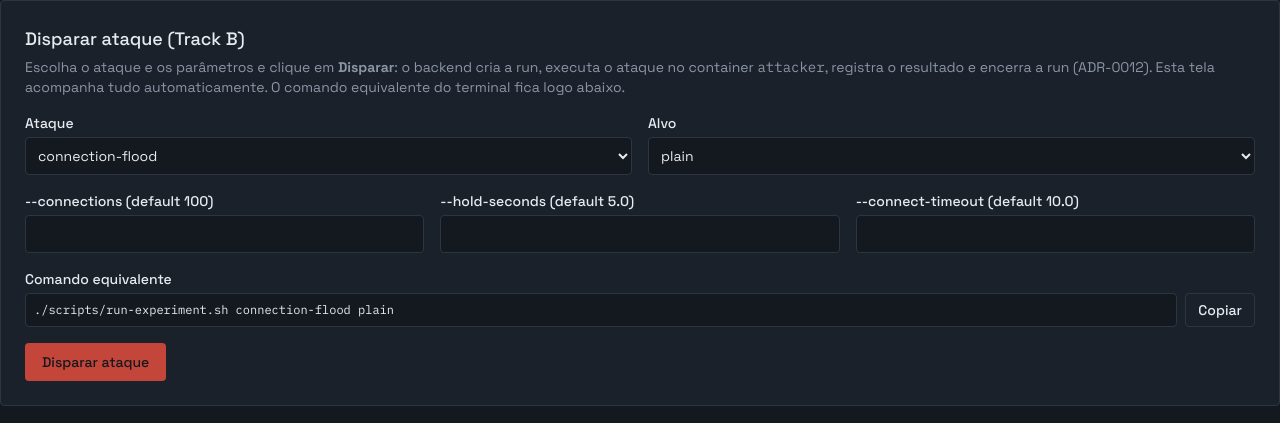
Test: AttackForm › always includes --mode for malformed-payload, since the script requires it
Select "malformed-payload" in the dropdown labelled "Ataque" at coordinates (328, 156), box [25,137,632,175]
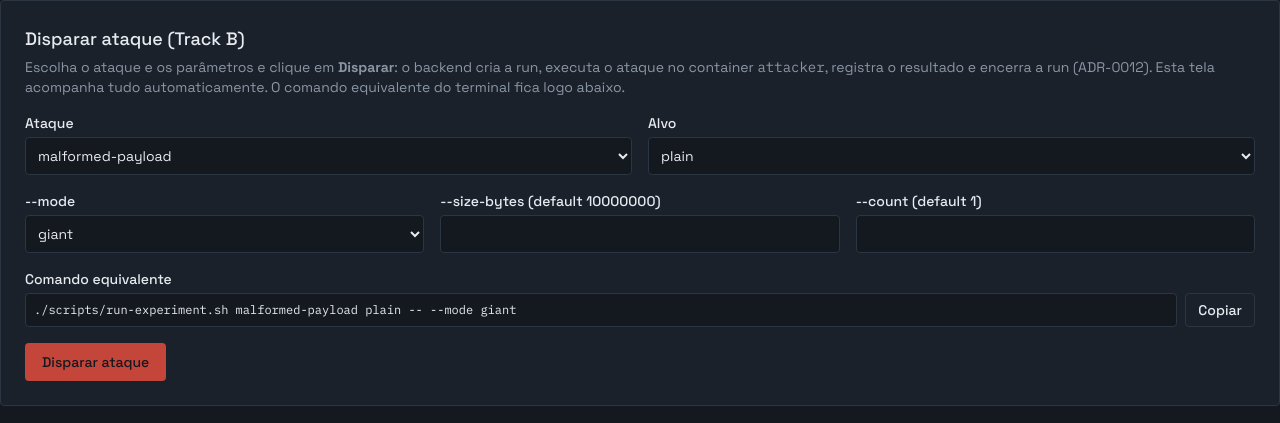
Expected: the field showing "./scripts/run-experiment.sh malformed-payload plain -- --mode giant" is shown, [25,293,1177,327]
